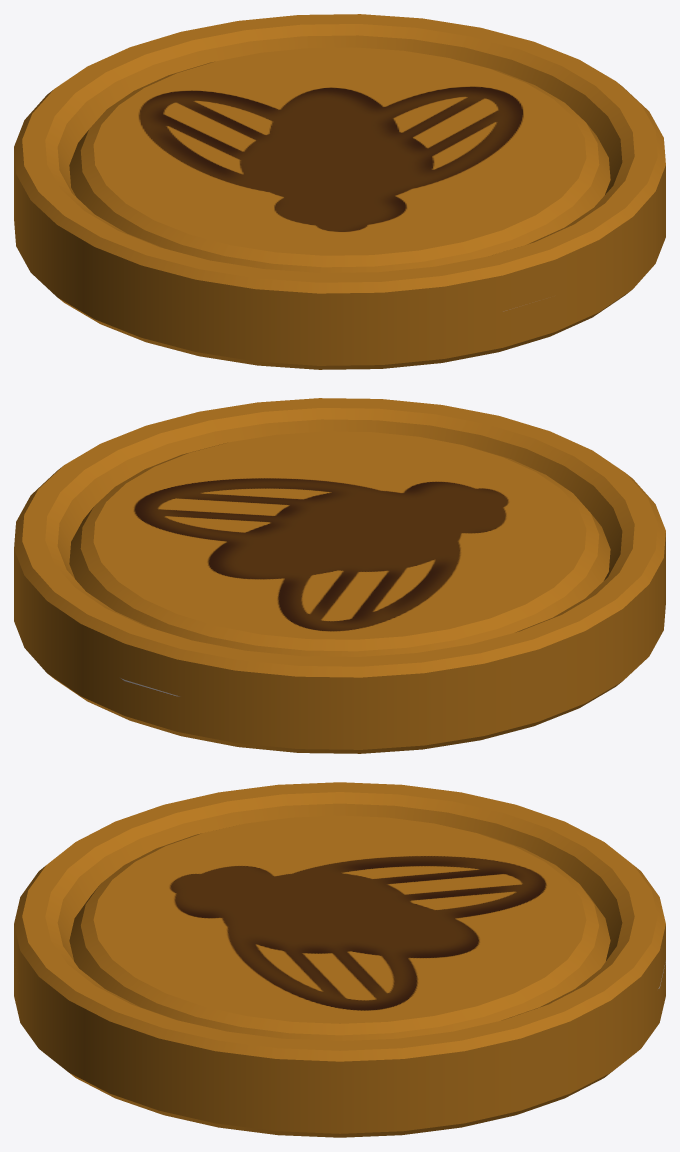
Rendered from Coin2Model.fbx.
3 views of the same model, one above another, from view 1: azimuth 30°, elevation 25°; view 2: azimuth 150°, elevation 25°; view 3: azimuth 270°, elevation 25° (orthographic).
Visible parts, largest first — view 1: Cylinder; view 2: Cylinder; view 3: Cylinder.
Boxes of the visible parts, x1=… form: Cylinder: x1=14, y1=14, x2=665, y2=369; Cylinder: x1=14, y1=398, x2=665, y2=753; Cylinder: x1=14, y1=782, x2=665, y2=1137.
Size of the model in its own units: 22.06 by 3.25 by 22.06.
